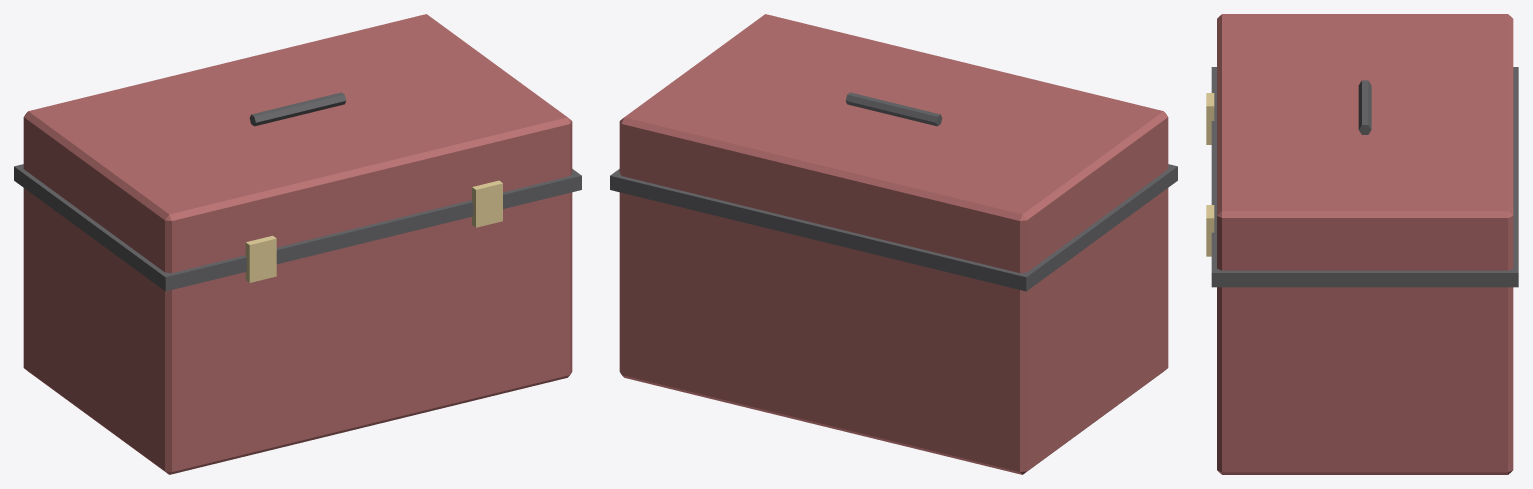
Rendered from trunk.glb.
The picture shows the model from 3 angles, left to right: view 1: azimuth 30°, elevation 25°; view 2: azimuth 150°, elevation 25°; view 3: azimuth 270°, elevation 25°; orthographic projection.
Parts seen in each view (by area): view 1: trunk_vinyl, trunk_dark, trunk_brass; view 2: trunk_vinyl, trunk_dark; view 3: trunk_vinyl, trunk_dark, trunk_brass.
Part boxes in pixels (left/top/right/bottom): trunk_vinyl: left=23, top=14, right=572, bottom=474; trunk_dark: left=14, top=92, right=581, bottom=291; trunk_brass: left=245, top=180, right=502, bottom=282; trunk_vinyl: left=619, top=14, right=1168, bottom=474; trunk_dark: left=610, top=92, right=1177, bottom=291; trunk_vinyl: left=1217, top=14, right=1513, bottom=474; trunk_dark: left=1211, top=67, right=1518, bottom=287; trunk_brass: left=1206, top=93, right=1214, bottom=256.
Bounding box in the file's own units: 0.92 × 0.5704 × 0.59.
